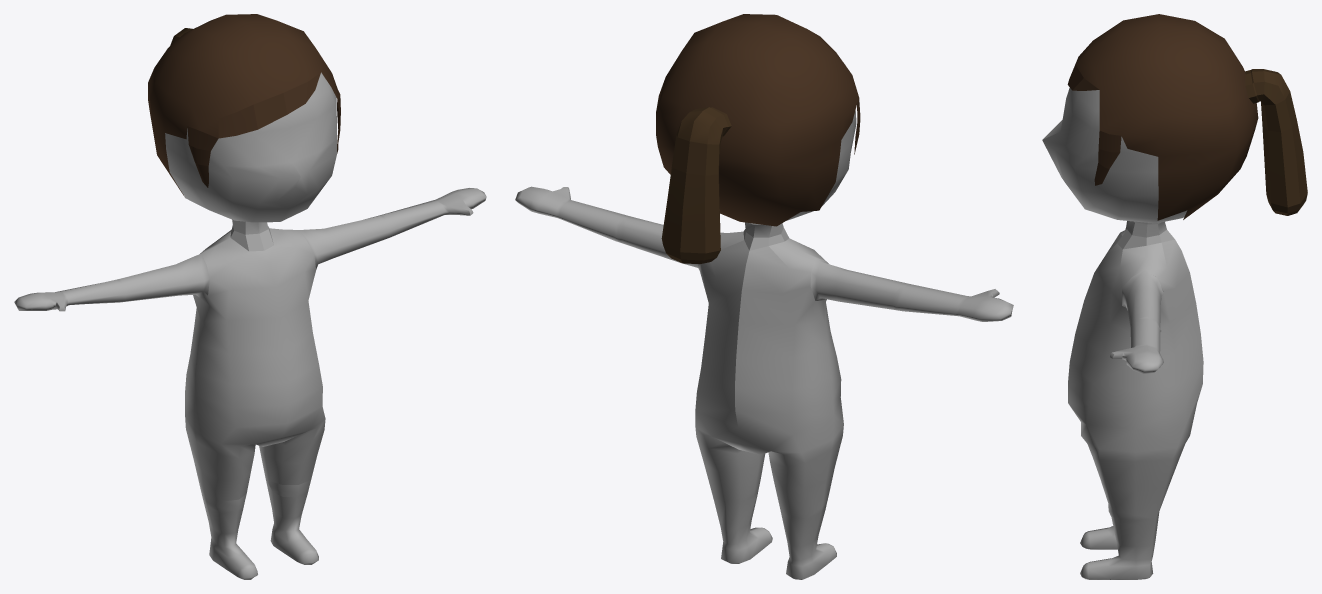
Rendered from f-side bang ponytail.fbx.
The picture shows the model from 3 angles, left to right: view 1: azimuth 30°, elevation 25°; view 2: azimuth 150°, elevation 25°; view 3: azimuth 270°, elevation 25°; orthographic projection. The views are drawn at different scales.
Parts seen in each view (by area): view 1: polySurface15, f_hairstyle_side_ponyTail; view 2: polySurface15, f_hairstyle_side_ponyTail, pCylinder1; view 3: polySurface15, f_hairstyle_side_ponyTail, pCylinder1.
Boxes of the visible parts, left/top/right/bottom form: polySurface15: left=14, top=72, right=486, bottom=579; f_hairstyle_side_ponyTail: left=148, top=14, right=340, bottom=196; polySurface15: left=515, top=110, right=1013, bottom=579; f_hairstyle_side_ponyTail: left=656, top=14, right=860, bottom=226; pCylinder1: left=661, top=107, right=731, bottom=264; polySurface15: left=1042, top=87, right=1203, bottom=579; f_hairstyle_side_ponyTail: left=1067, top=14, right=1258, bottom=220; pCylinder1: left=1244, top=69, right=1307, bottom=215.
Bounding box in the file's own units: 116 × 124 × 55.8.
